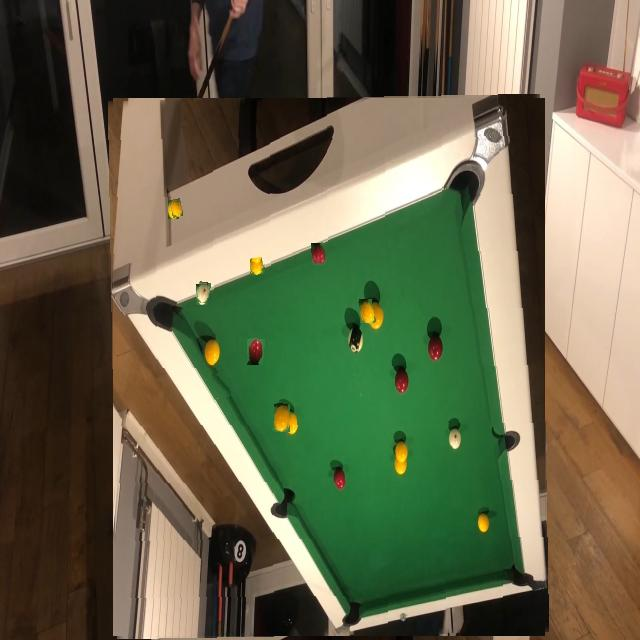Ball: (213, 371, 230, 399), (273, 404, 290, 432), (293, 380, 310, 408), (437, 370, 453, 398), (248, 338, 264, 365), (360, 300, 375, 324), (197, 282, 211, 303), (251, 270, 264, 292), (313, 243, 326, 265), (170, 198, 183, 218), (251, 258, 265, 276)
Billiard table: (111, 96, 547, 638)
